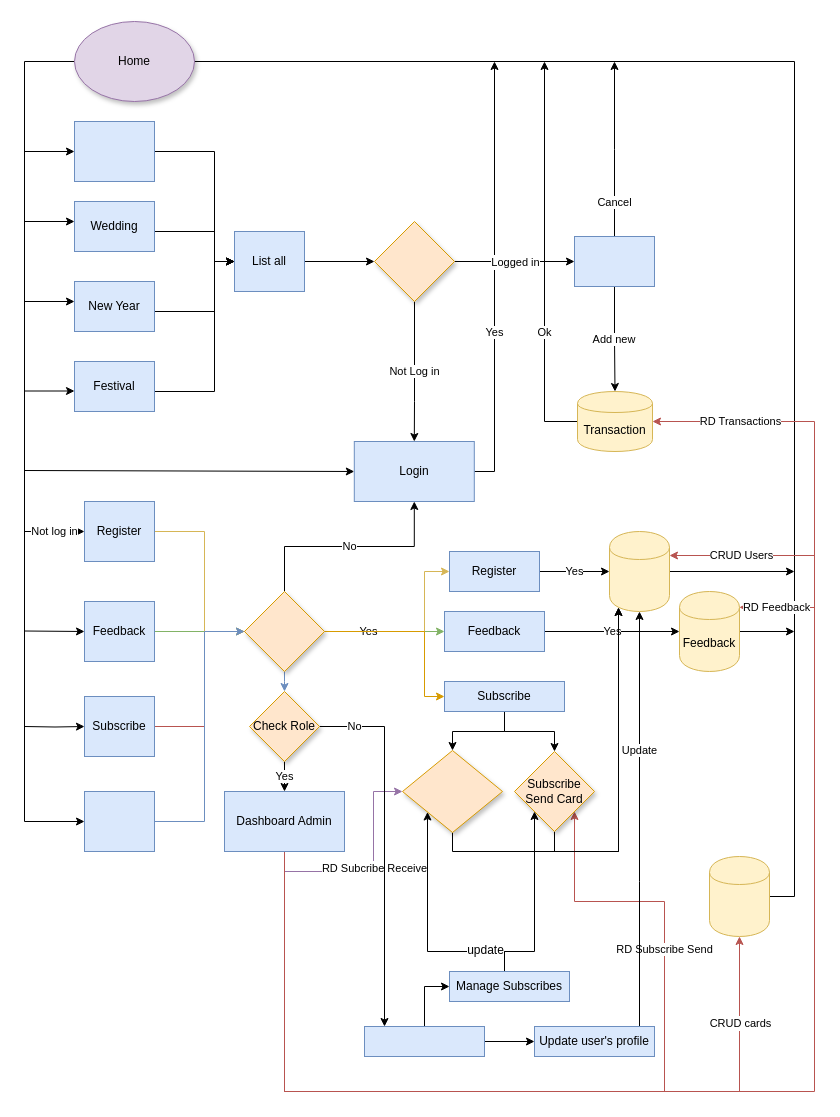
Some shapes in this 840 by 1117 pixel diagram are drawn without their labels. Each missing label, with the centre of its shape:
Birthday: (114,151)
Check Login: (285,632)
Dashboard User: (424,1041)
Link to Dashboard: (119,821)
Modify Card: (614,261)
Select template: (415,262)
Subscribe Receive New cards: (453,793)
Template Cards: (739,896)
Users: (639,571)
